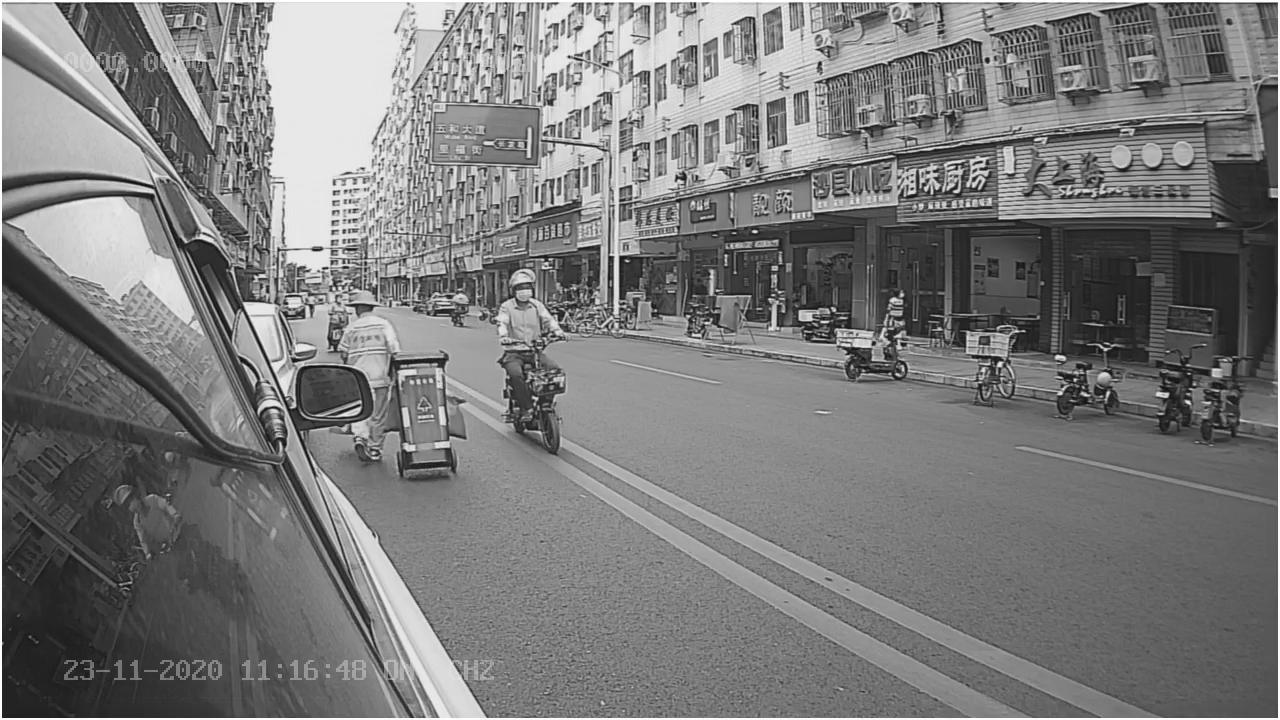person: (488, 267, 565, 339)
